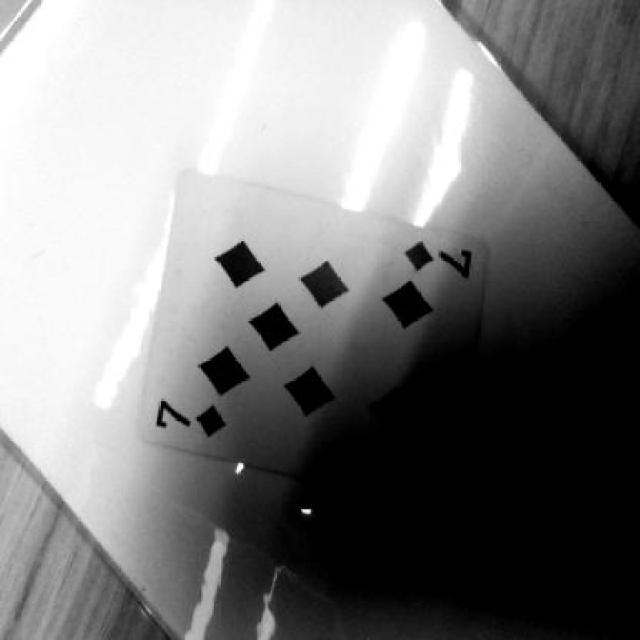7D: (150, 390, 236, 452), (394, 243, 494, 291)
